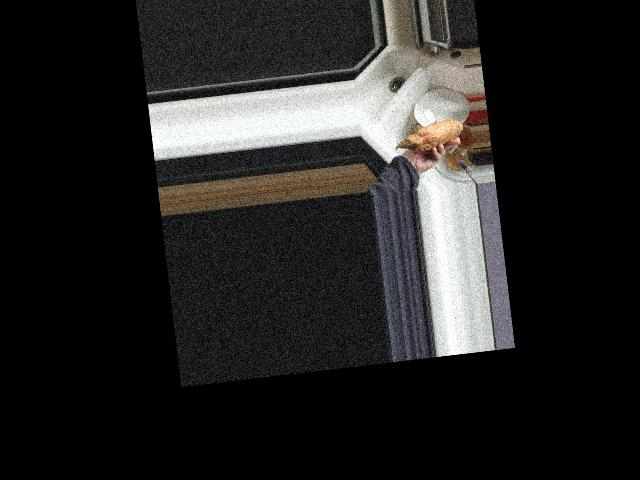sweet_potato: (392, 116, 464, 154)
